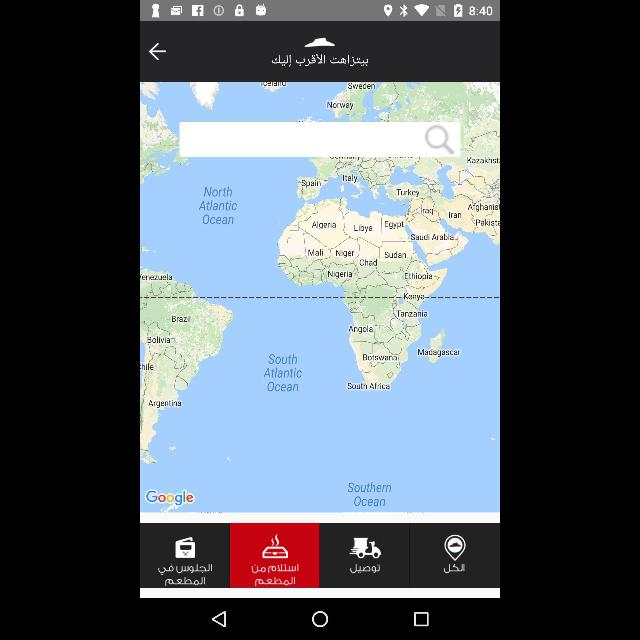icon: (348, 532, 384, 560), (438, 532, 469, 562), (260, 533, 290, 561), (146, 39, 170, 63), (172, 536, 198, 558), (302, 34, 338, 48), (312, 610, 328, 628), (413, 610, 429, 628), (212, 611, 228, 627)
map: (140, 82, 498, 512)
panel: (141, 600, 499, 638)
text: (264, 51, 372, 69), (158, 561, 214, 585), (248, 562, 302, 586), (347, 560, 385, 576), (437, 562, 469, 576)
uppertaskbar: (141, 1, 499, 20)
